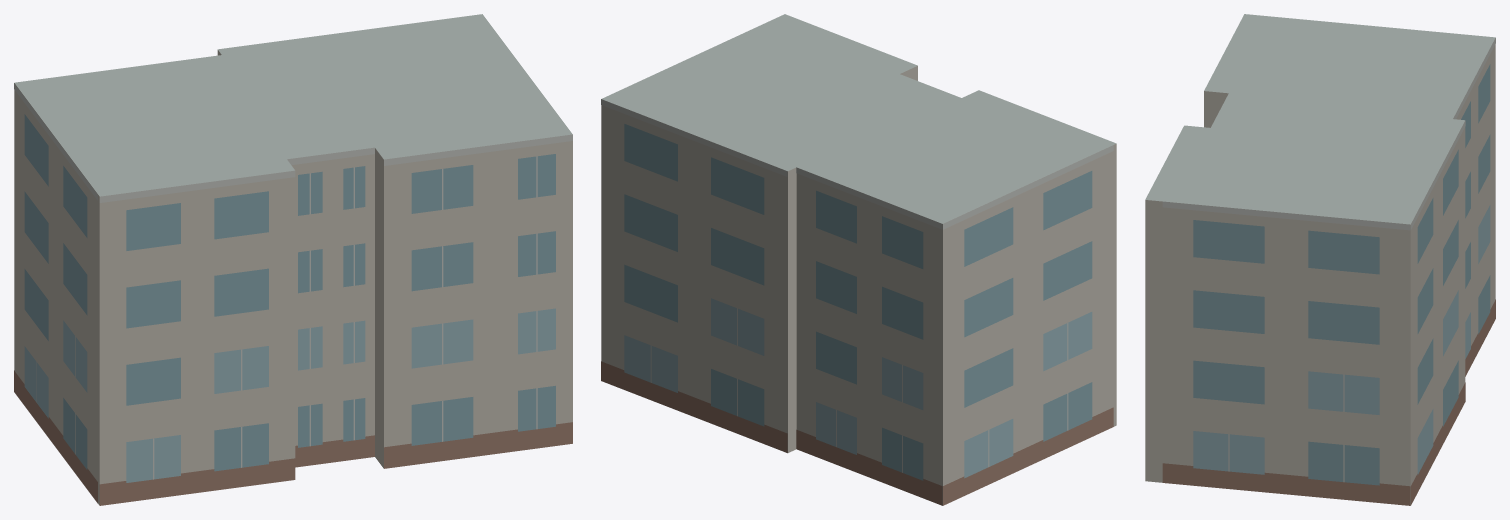
File: survey-upis-33033053.glb
3 views of the same model, side by side, from view 1: azimuth 30°, elevation 25°; view 2: azimuth 150°, elevation 25°; view 3: azimuth 270°, elevation 25° (orthographic). The views are drawn at different scales.
Parts seen in each view (by area): view 1: survey-upis-33033053.tmp; view 2: survey-upis-33033053.tmp; view 3: survey-upis-33033053.tmp.
Part boxes in pixels (x1,y1,x2,y2): survey-upis-33033053.tmp: [14, 14, 572, 505]; survey-upis-33033053.tmp: [601, 14, 1116, 505]; survey-upis-33033053.tmp: [1145, 14, 1495, 505].
Size of the model in its own units: 18.62 by 11.6 by 13.11.
